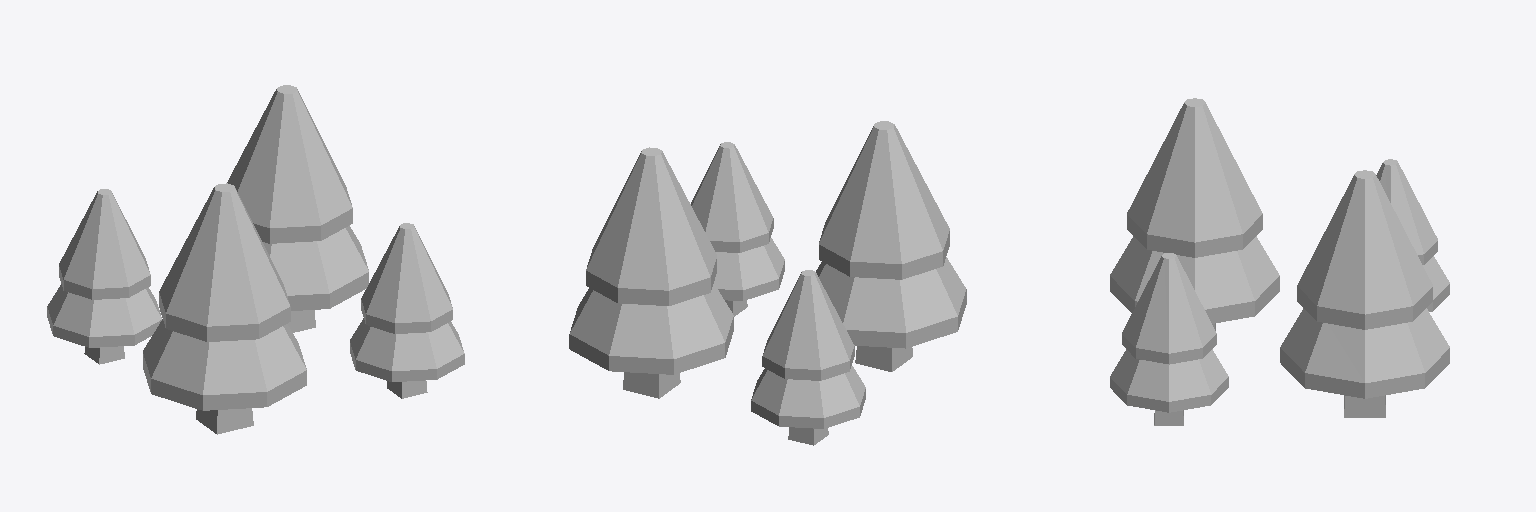
The model's file is green_tile_treeQuad.obj.
The picture shows the model from 3 angles: view 1: azimuth 30°, elevation 25°; view 2: azimuth 150°, elevation 25°; view 3: azimuth 270°, elevation 25°; orthographic projection.
Parts seen in each view (by area): view 1: tree; view 2: tree; view 3: tree.
Part boxes in pixels (x1,y1,x2,y2): tree: (47, 85, 464, 434); tree: (569, 121, 966, 445); tree: (1110, 98, 1449, 425).
Size of the model in its own units: 1 by 0.76 by 1.